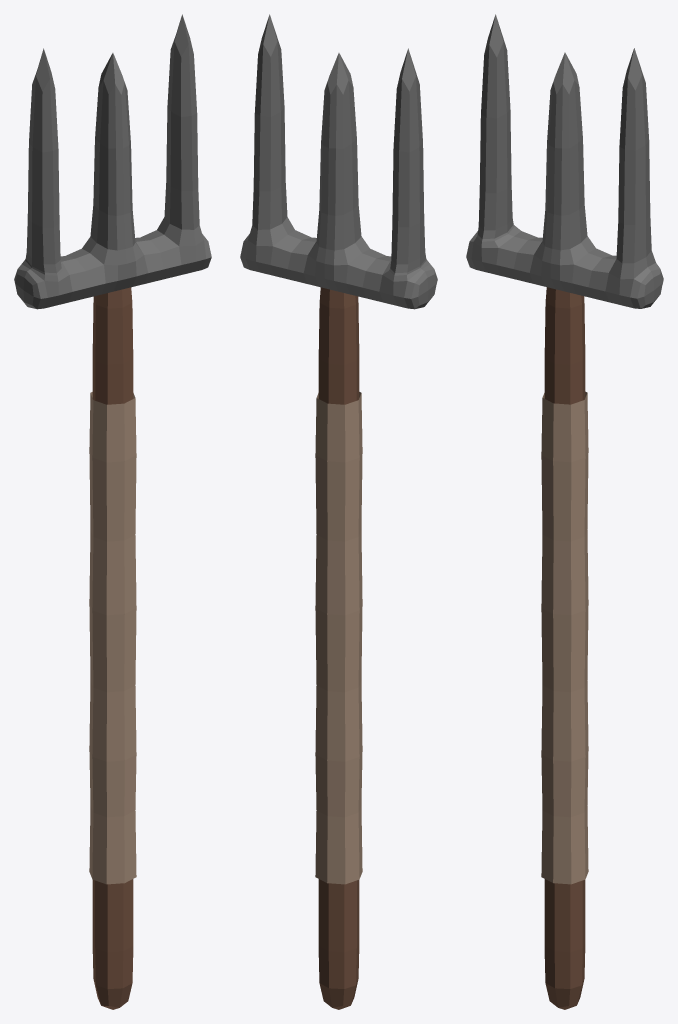
File: Low Poly Pitchfork.fbx
3 views of the same model, side by side, from view 1: azimuth 30°, elevation 25°; view 2: azimuth 150°, elevation 25°; view 3: azimuth 330°, elevation 25° (orthographic).
Visible parts, largest first — view 1: Cube.004, Cube.003, Cube.002; view 2: Cube.004, Cube.003, Cube.002; view 3: Cube.004, Cube.003, Cube.002.
Part boxes in pixels (x1=…): Cube.004: x1=14, y1=14, x2=211, y2=309; Cube.003: x1=89, y1=392, x2=136, y2=884; Cube.002: x1=92, y1=287, x2=133, y2=1009; Cube.004: x1=240, y1=14, x2=437, y2=309; Cube.003: x1=315, y1=392, x2=362, y2=884; Cube.002: x1=318, y1=287, x2=359, y2=1009; Cube.004: x1=466, y1=14, x2=663, y2=308; Cube.003: x1=541, y1=391, x2=588, y2=884; Cube.002: x1=544, y1=287, x2=585, y2=1009.
Size of the model in its own units: 97.97 by 512 by 27.3.
